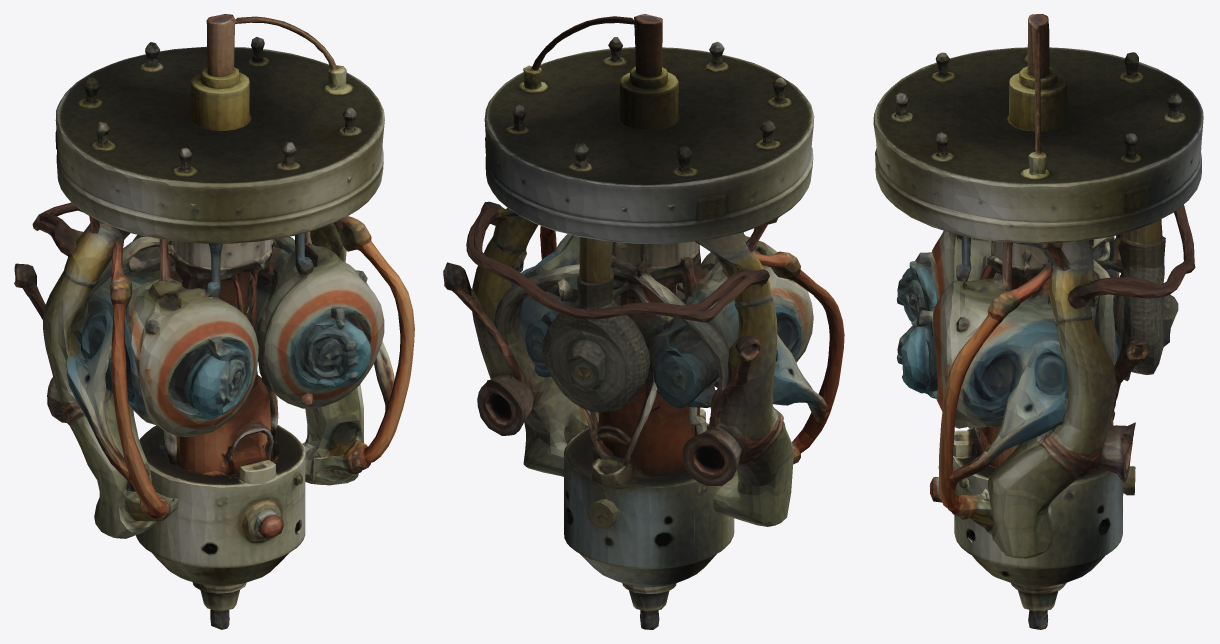
Rendered from sample (10).glb.
3 views of the same model, side by side, from view 1: azimuth 30°, elevation 25°; view 2: azimuth 150°, elevation 25°; view 3: azimuth 270°, elevation 25° (orthographic).
Visible parts, largest first — view 1: world; view 2: world; view 3: world.
Boxes of the visible parts, x1,y1,x2,y2 form: world: (14,14,414,629); world: (443,14,844,629); world: (873,14,1203,629).
Bounding box in the file's own units: 0.5435 × 1 × 0.4957.
1 material, 1 textured.
